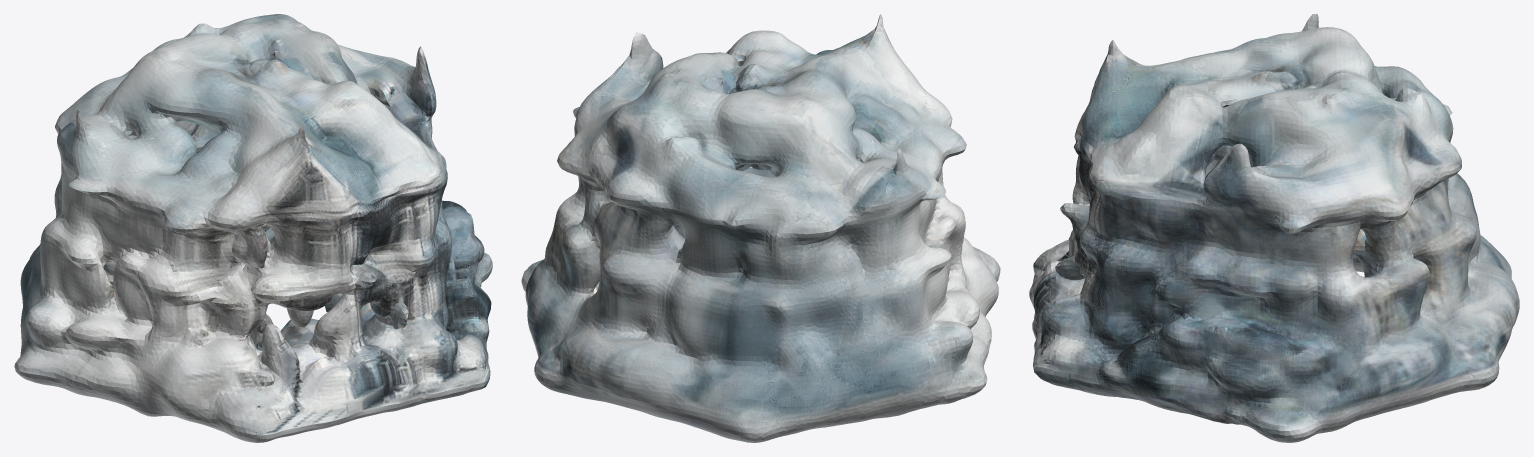
3 views of the same model, side by side, from view 1: azimuth 30°, elevation 25°; view 2: azimuth 150°, elevation 25°; view 3: azimuth 270°, elevation 25° (orthographic). The views are drawn at different scales.
Size of the model in its own units: 1.44 by 0.8463 by 1.32.
1 material, 1 textured.
